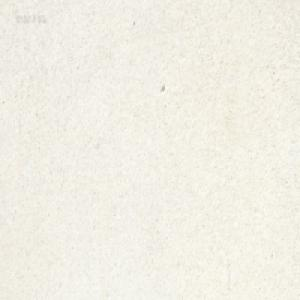Wrench: (206, 0, 213, 5)
